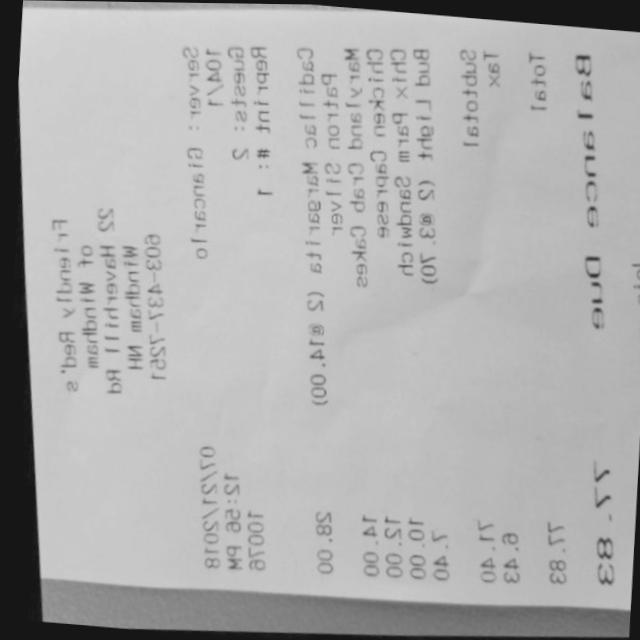Paper: (0, 0, 640, 629)
